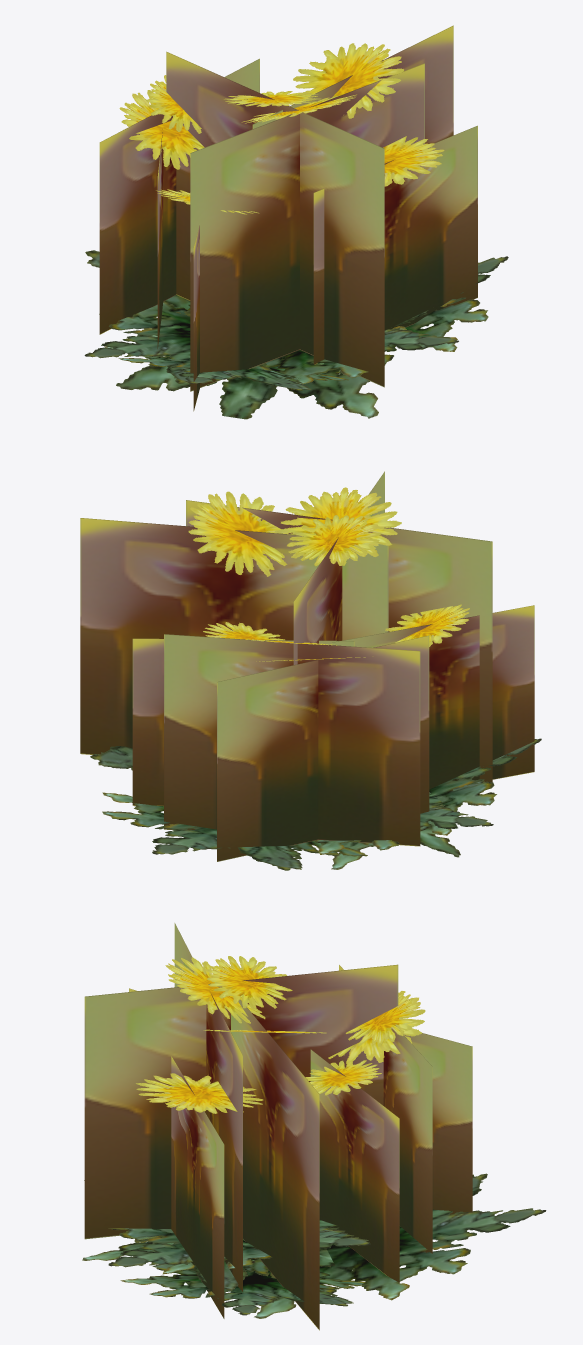
File: flower_y_lod0.glb
3 renders of one model, top to bottom at view 1: azimuth 30°, elevation 25°; view 2: azimuth 150°, elevation 25°; view 3: azimuth 270°, elevation 25°, orthographic.
Visible parts, largest first — view 1: flower_y_lod0; view 2: flower_y_lod0; view 3: flower_y_lod0.
Boxes of the visible parts, left/top/right/bottom form: flower_y_lod0: left=84, top=25, right=508, bottom=419; flower_y_lod0: left=80, top=471, right=541, bottom=870; flower_y_lod0: left=82, top=923, right=546, bottom=1330.
Bounding box in the file's own units: 0.95 × 0.56 × 0.9459.
3 materials, 3 textured.
